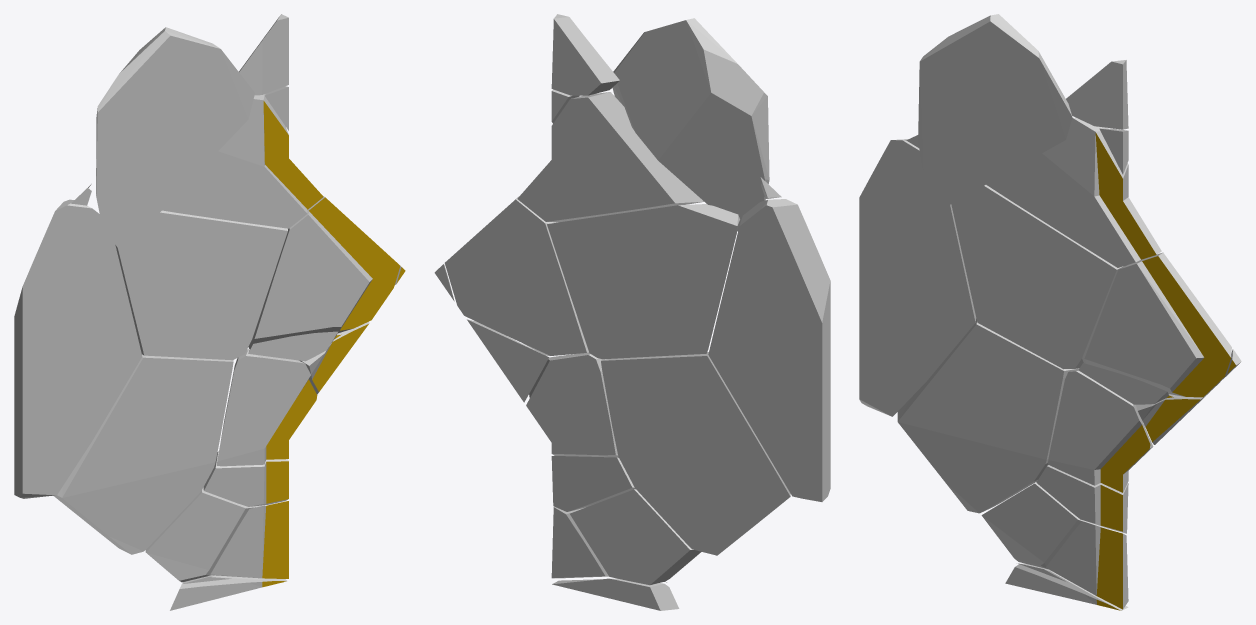
The model's file is DoorL-Shatter.fbx.
3 renders of one model, left to right at view 1: azimuth 30°, elevation 25°; view 2: azimuth 150°, elevation 25°; view 3: azimuth 330°, elevation 25°, orthographic. The views are drawn at different scales.
Visible parts, largest first — view 1: DoorL_cell.010, DoorL_cell.000, DoorL_cell.015, DoorL_cell.023, DoorL_cell.027, DoorL_cell.008, DoorL_cell.017, DoorL_cell.011, DoorL_cell.020, DoorL_cell.029, DoorL_cell.033, DoorL_cell.001 (+3 smaller); view 2: DoorL_cell.010, DoorL_cell.015, DoorL_cell.023, DoorL_cell.000, DoorL_cell.027, DoorL_cell.008, DoorL_cell.011, DoorL_cell.017, DoorL_cell.029, DoorL_cell.033, DoorL_cell.031, DoorL_cell.020 (+1 smaller); view 3: DoorL_cell.010, DoorL_cell.015, DoorL_cell.000, DoorL_cell.023, DoorL_cell.027, DoorL_cell.008, DoorL_cell.017, DoorL_cell.011, DoorL_cell.020, DoorL_cell.029, DoorL_cell.033, DoorL_cell.001 (+3 smaller).
Part boxes in pixels (x1,y1,x2,y2): DoorL_cell.010: (14,199,142,498); DoorL_cell.000: (96,27,254,252); DoorL_cell.015: (53,354,233,554); DoorL_cell.023: (115,210,287,360); DoorL_cell.027: (248,196,400,348); DoorL_cell.008: (162,94,323,228); DoorL_cell.017: (216,348,317,466); DoorL_cell.011: (145,487,262,582); DoorL_cell.020: (210,501,288,578); DoorL_cell.029: (203,450,288,506); DoorL_cell.033: (239,14,288,95); DoorL_cell.001: (170,575,287,610); DoorL_cell.010: (708,199,830,501); DoorL_cell.015: (601,352,790,555); DoorL_cell.023: (547,204,739,359); DoorL_cell.000: (612,18,769,231); DoorL_cell.027: (444,195,588,355); DoorL_cell.008: (517,92,704,222); DoorL_cell.011: (570,489,701,585); DoorL_cell.017: (526,352,618,457); DoorL_cell.029: (551,456,635,511); DoorL_cell.033: (551,14,619,95); DoorL_cell.031: (467,319,548,402); DoorL_cell.020: (551,506,608,578); DoorL_cell.010: (859,139,976,416); DoorL_cell.015: (897,318,1079,513); DoorL_cell.000: (918,14,1072,208); DoorL_cell.023: (951,185,1127,369); DoorL_cell.027: (1084,252,1231,397); DoorL_cell.008: (986,117,1161,267); DoorL_cell.017: (1048,370,1153,492); DoorL_cell.011: (981,483,1109,568); DoorL_cell.020: (1046,522,1128,609); DoorL_cell.029: (1036,465,1128,533); DoorL_cell.033: (1066,60,1128,129); DoorL_cell.001: (1005,563,1128,610).
Size of the model in its own units: 43 by 62.47 by 3.29.
